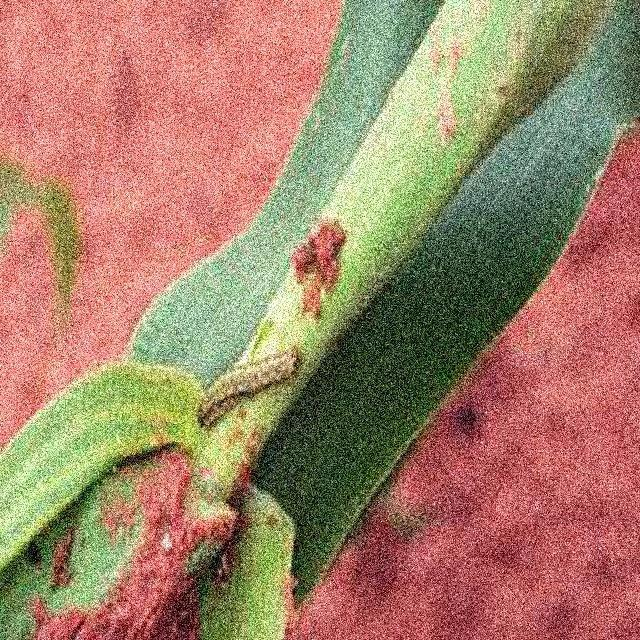gusano_cogollero: (195, 365, 322, 418)
